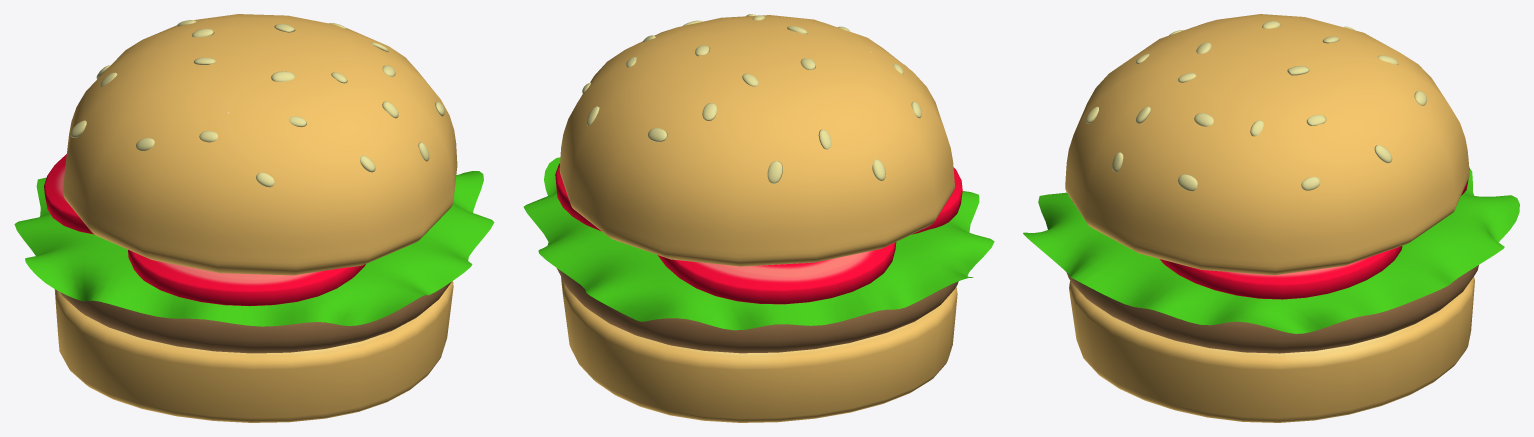
File: Cartoon_Burger.fbx
The picture shows the model from 3 angles, left to right: view 1: azimuth 30°, elevation 25°; view 2: azimuth 150°, elevation 25°; view 3: azimuth 270°, elevation 25°; orthographic projection.
Parts seen in each view (by area): view 1: Pan_Arriba, Pan_Abajo, Lechuga, Carne, Tomate.003, Semillas, Tomate.002; view 2: Pan_Arriba, Pan_Abajo, Lechuga, Carne, Tomate.002, Semillas, Tomate.003, Tomate.1; view 3: Pan_Arriba, Pan_Abajo, Lechuga, Carne, Tomate.1, Semillas.
Boxes of the visible parts, bbox=[...] form: Pan_Arriba: bbox=[63, 14, 457, 275]; Pan_Abajo: bbox=[54, 281, 453, 422]; Lechuga: bbox=[14, 171, 494, 326]; Carne: bbox=[60, 282, 451, 353]; Tomate.003: bbox=[128, 250, 365, 306]; Semillas: bbox=[70, 20, 444, 187]; Tomate.002: bbox=[44, 154, 94, 234]; Pan_Arriba: bbox=[559, 15, 954, 266]; Pan_Abajo: bbox=[561, 277, 957, 422]; Lechuga: bbox=[523, 157, 994, 330]; Carne: bbox=[556, 268, 958, 353]; Tomate.002: bbox=[657, 242, 896, 304]; Semillas: bbox=[582, 14, 921, 183]; Tomate.003: bbox=[912, 167, 962, 234]; Tomate.1: bbox=[555, 163, 601, 231]; Pan_Arriba: bbox=[1065, 14, 1469, 275]; Pan_Abajo: bbox=[1069, 277, 1474, 422]; Lechuga: bbox=[1023, 167, 1519, 333]; Carne: bbox=[1066, 265, 1478, 353]; Tomate.1: bbox=[1160, 246, 1402, 299]; Semillas: bbox=[1085, 21, 1426, 191].
Size of the model in its own units: 232 by 151 by 230.
Materials: 5 (3 with a texture image).
